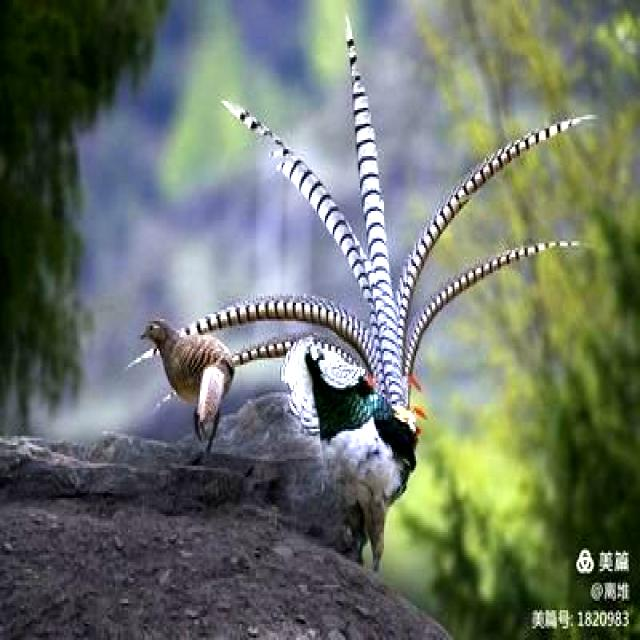Chrysolophus amherstiae: (184, 18, 590, 401), (232, 339, 290, 365)
